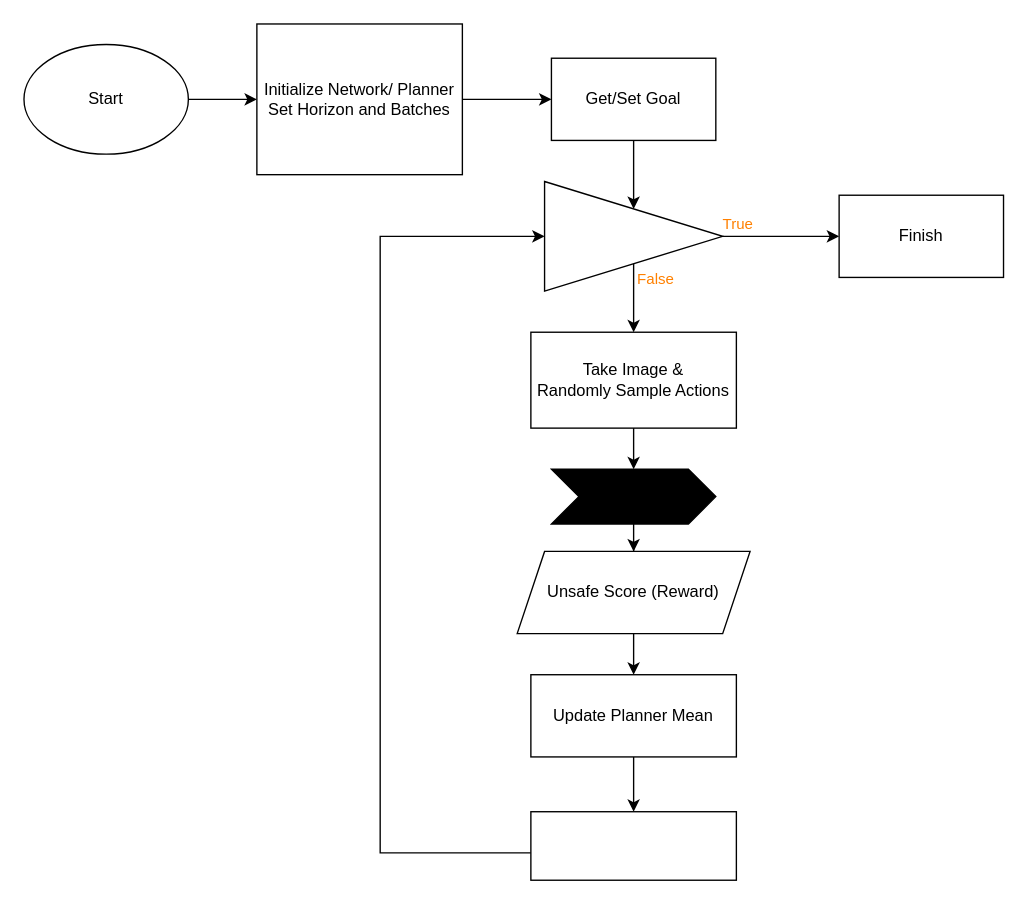
The diagram is 1028 pixels wide and 904 high, and some of its shapes have lost their labels. The centre of each missing label's shape, as x and y in pixels:
Network: the point at 633,496
Take t=0 mean action: the point at 633,845
While not at Goal: the point at 633,235
